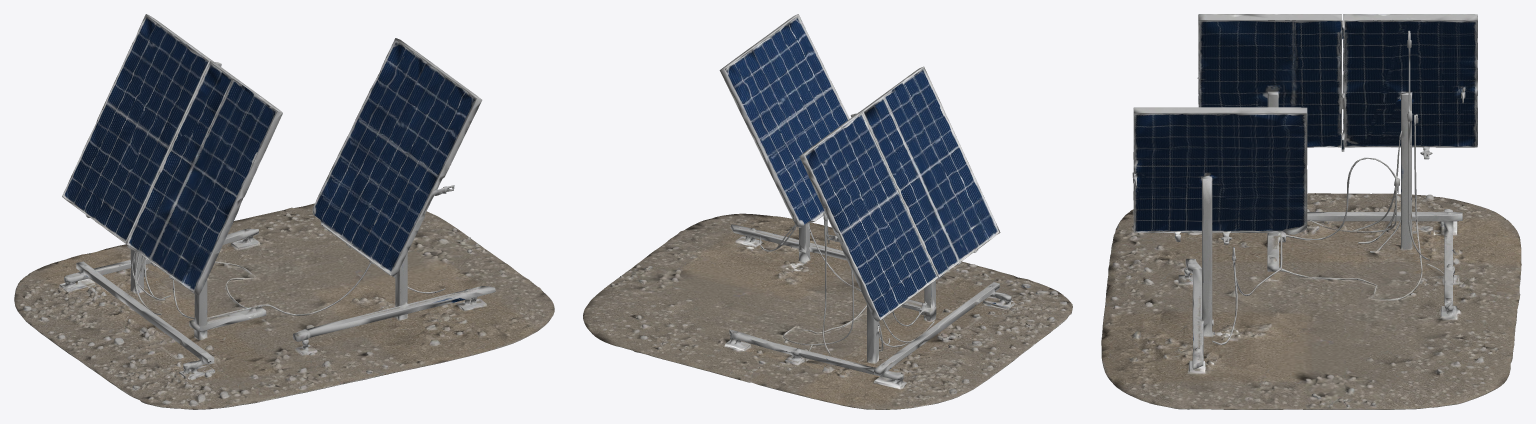
Rendered from solar-array.glb.
The picture shows the model from 3 angles, left to right: view 1: azimuth 30°, elevation 25°; view 2: azimuth 150°, elevation 25°; view 3: azimuth 270°, elevation 25°; orthographic projection. The views are drawn at different scales.
Bounding box in the file's own units: 1.9 × 1.07 × 1.56.
1 material, 1 textured.
